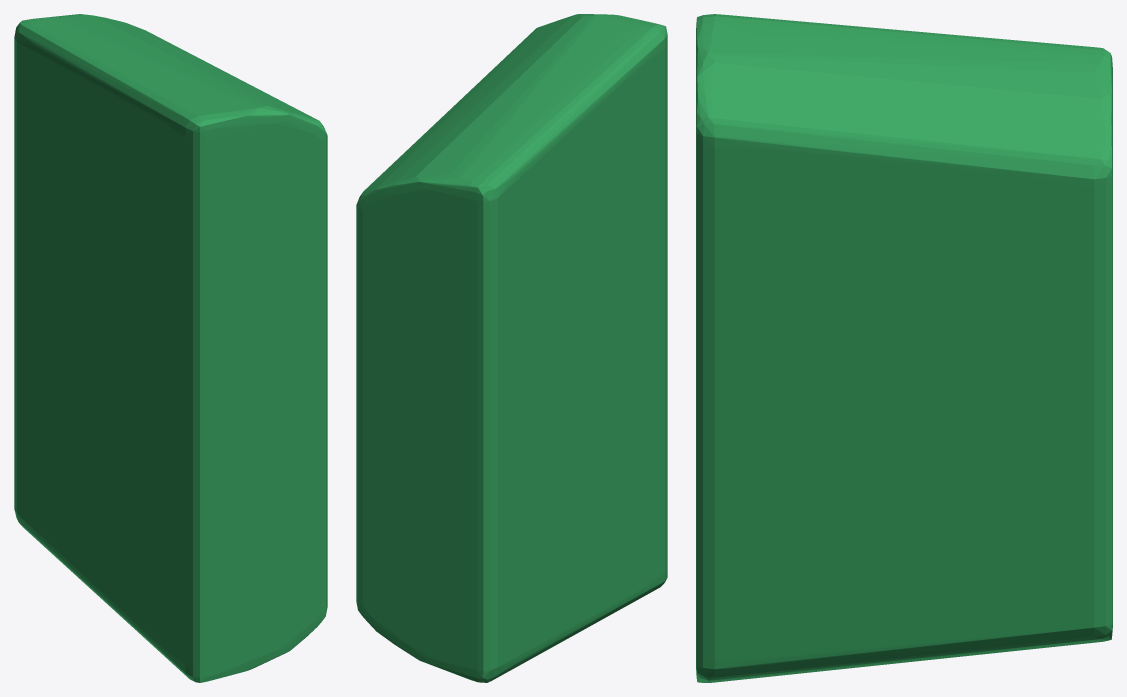
The model's file is right_th_middle_part_10.obj.
3 renders of one model, left to right at view 1: azimuth 30°, elevation 25°; view 2: azimuth 150°, elevation 25°; view 3: azimuth 270°, elevation 25°, orthographic. The views are drawn at different scales.
Size of the model in its own units: 5.81 by 22.36 by 13.31.
